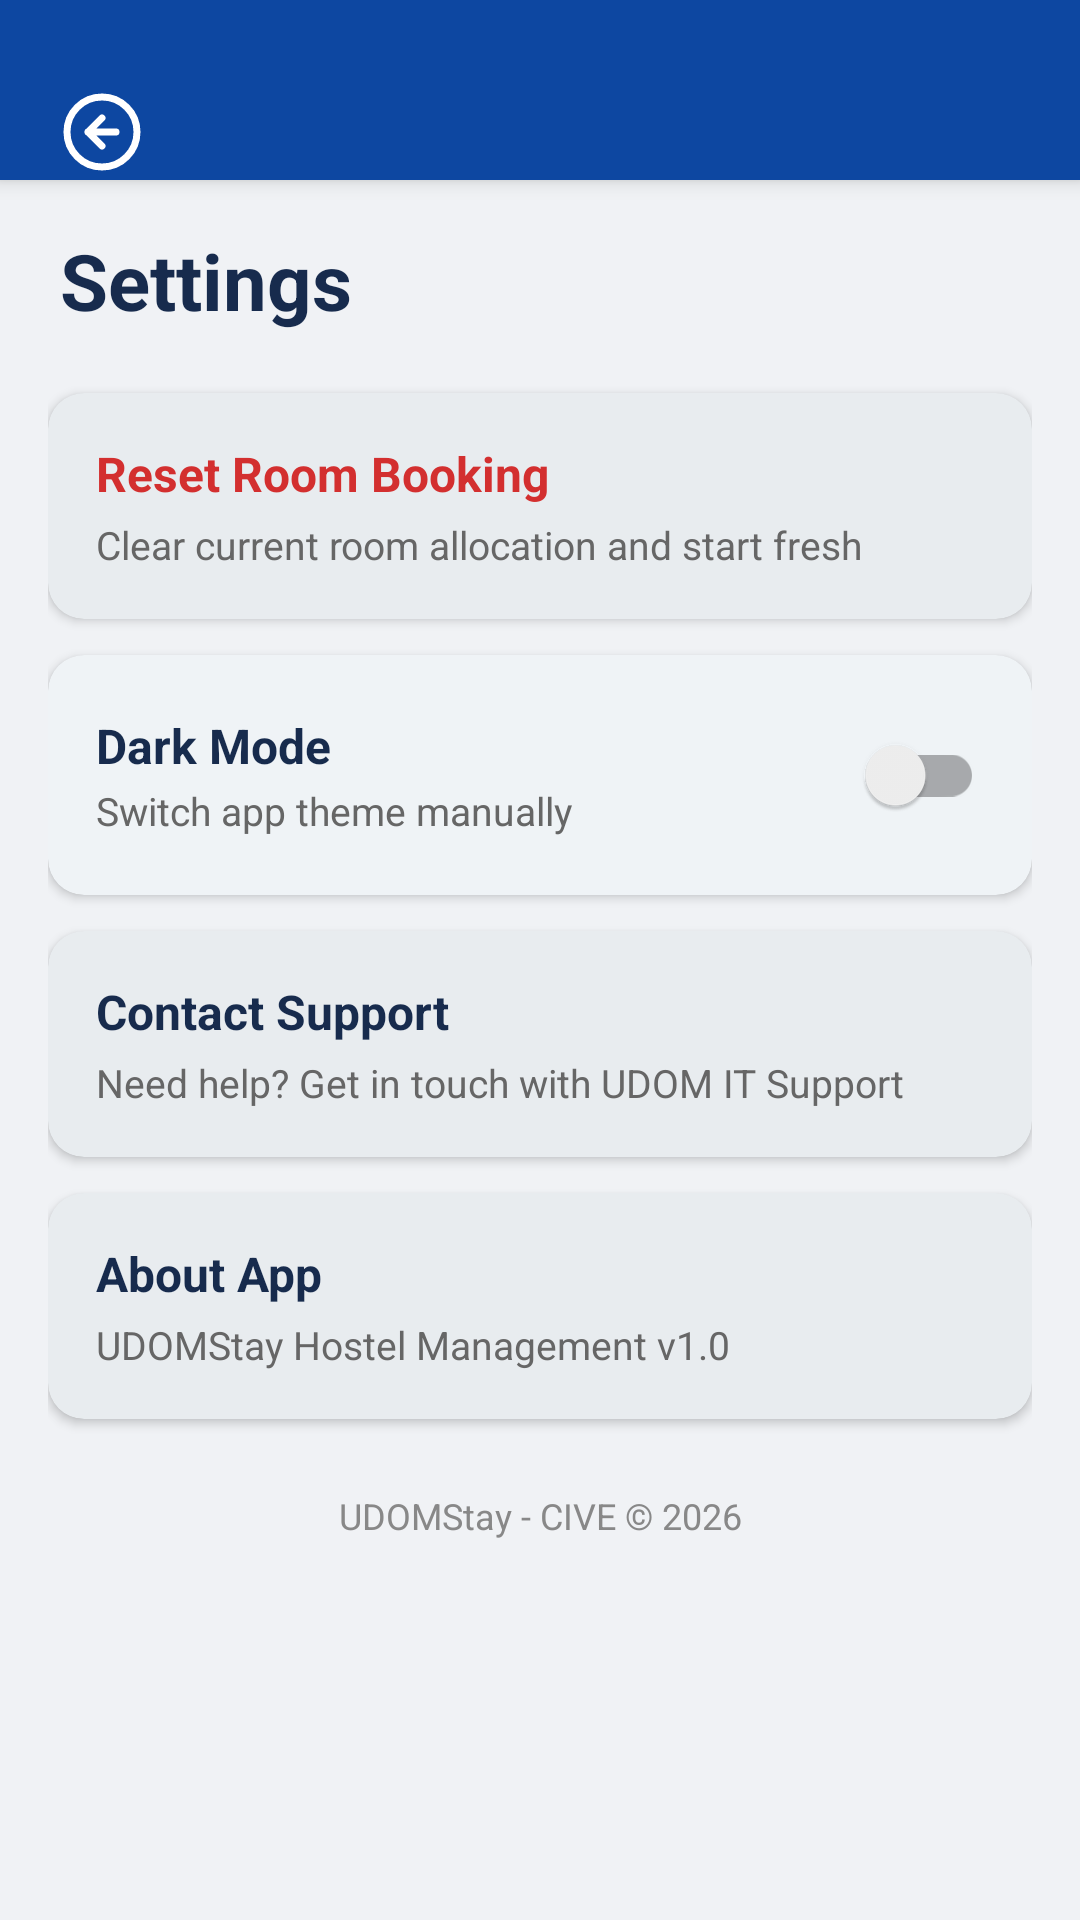

Where to tap for icons on this 1080×1920 app screen, as [x,y]:
Back: [102,132]
